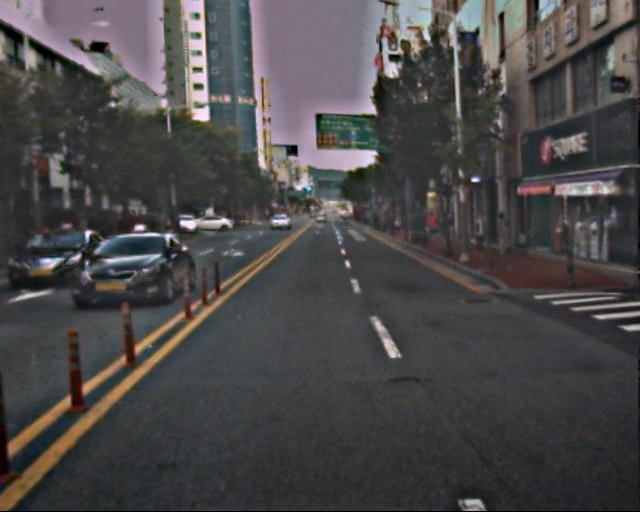person: (496, 212, 516, 261), (472, 211, 492, 259)
